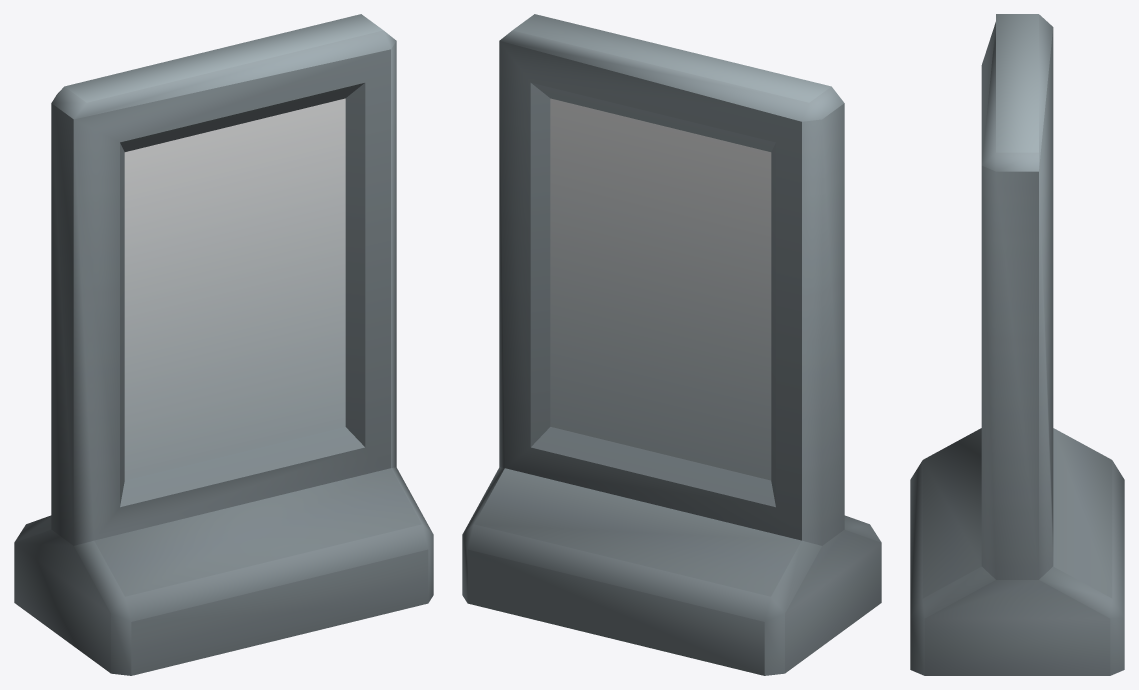
The model's file is cc0-menu-lod1.glb.
The picture shows the model from 3 angles, left to right: view 1: azimuth 30°, elevation 25°; view 2: azimuth 150°, elevation 25°; view 3: azimuth 270°, elevation 25°; orthographic projection. The views are drawn at different scales.
Parts seen in each view (by area): view 1: part_0; view 2: part_0; view 3: part_0.
Boxes of the visible parts, box(x1,y1,x2,y2) form: part_0: box(14, 14, 433, 675); part_0: box(462, 14, 881, 675); part_0: box(910, 14, 1124, 675).
Bounding box in the file's own units: 0.5 × 0.8 × 0.3.
1 material, 1 textured.
